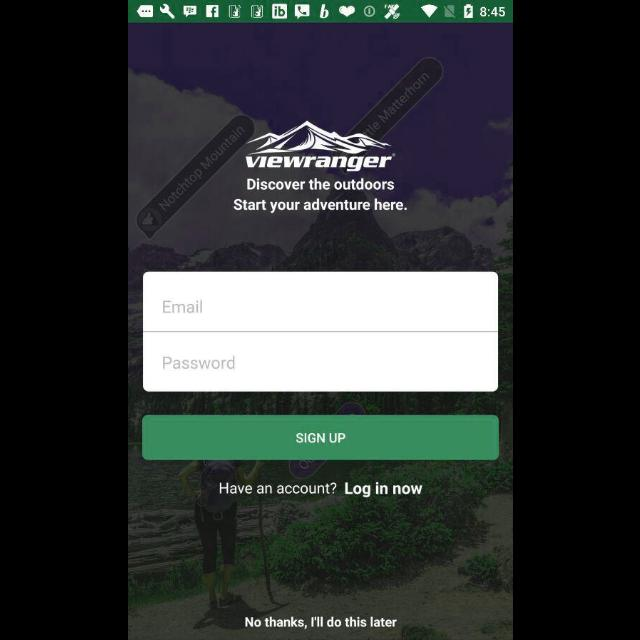backgroundimage: (128, 24, 512, 640)
image: (244, 121, 396, 173)
input: (143, 332, 497, 392), (143, 274, 497, 332)
text: (233, 178, 407, 215), (244, 616, 396, 630), (218, 482, 336, 494), (344, 482, 422, 498), (162, 355, 234, 369), (162, 301, 202, 315)
textbutton: (142, 416, 498, 460)
uppertaskbar: (128, 1, 512, 23)
